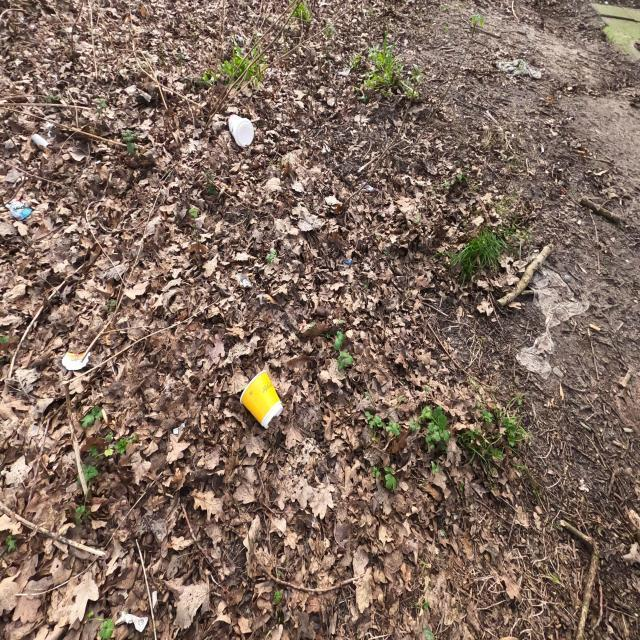Cup: (237, 358, 291, 434), (220, 108, 260, 156)
